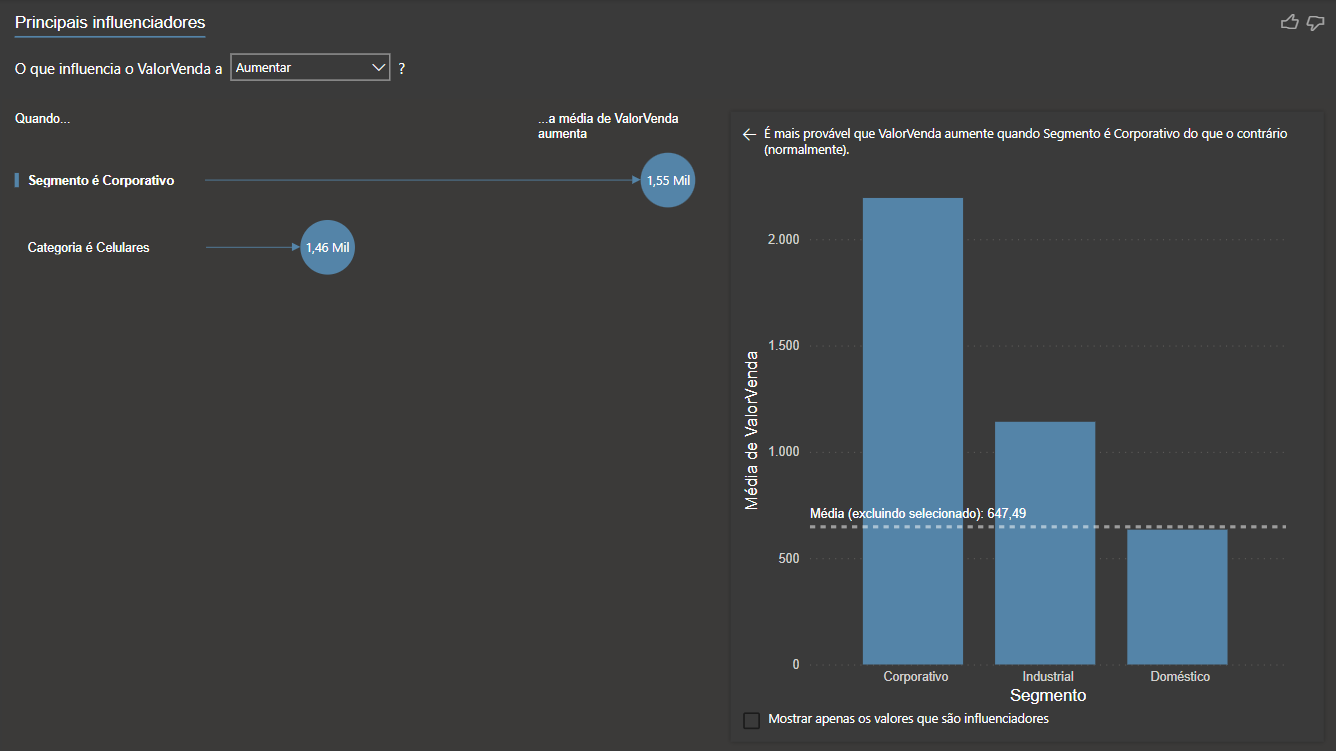

This screenshot's page, from the dashboard's own definition file:
{"tool":"powerbi","page":{"name":"Principais Influenciadores de Vendas","canvas":[1280,720],"ordinal":2},"visuals":[{"type":"keyDriversVisual","fields":{"Target":["Vendas.ValorVenda"],"ExplainBy":["Vendas.Segmento","Vendas.Categoria"]},"box":[0,0,1280,720],"z":0}]}

Visuals, with their boxes in screenshot pixels (x1, y1, x2, y2), scaled from the page's 1280x720 canvas onto the 1336x751 screenshot:
keyDriversVisual - Vendas.ValorVenda x Vendas.Segmento: (0, 0, 1335, 750)
